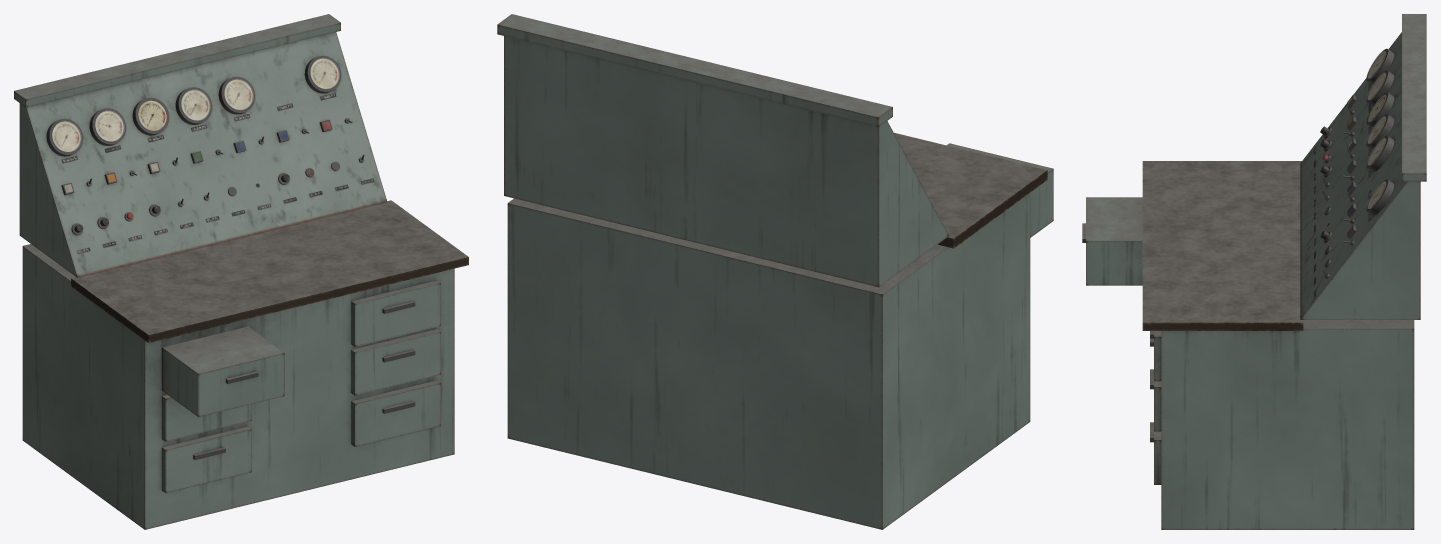
The model's file is SM_ControlConsole_Short.fbx.
The picture shows the model from 3 angles, left to right: view 1: azimuth 30°, elevation 25°; view 2: azimuth 150°, elevation 25°; view 3: azimuth 270°, elevation 25°; orthographic projection. The views are drawn at different scales.
Visible parts, largest first — view 1: SM_ControlConsole_Short; view 2: SM_ControlConsole_Short; view 3: SM_ControlConsole_Short.
Part boxes in pixels (x1,y1,x2,y2): SM_ControlConsole_Short: [14, 14, 468, 529]; SM_ControlConsole_Short: [497, 14, 1053, 529]; SM_ControlConsole_Short: [1082, 14, 1426, 529].
Bounding box in the file's own units: 1.24 × 1.28 × 1.12.
Materials: 2 (1 with a texture image).
